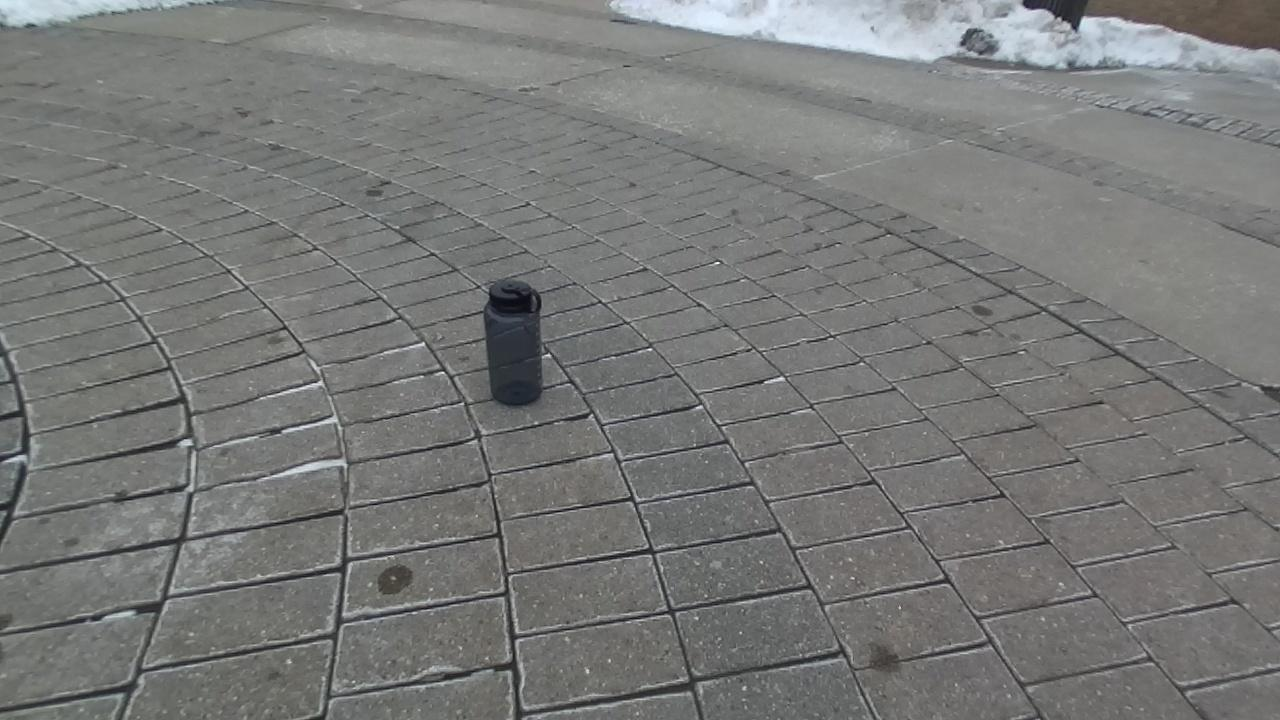bottle: (483, 279, 542, 404)
